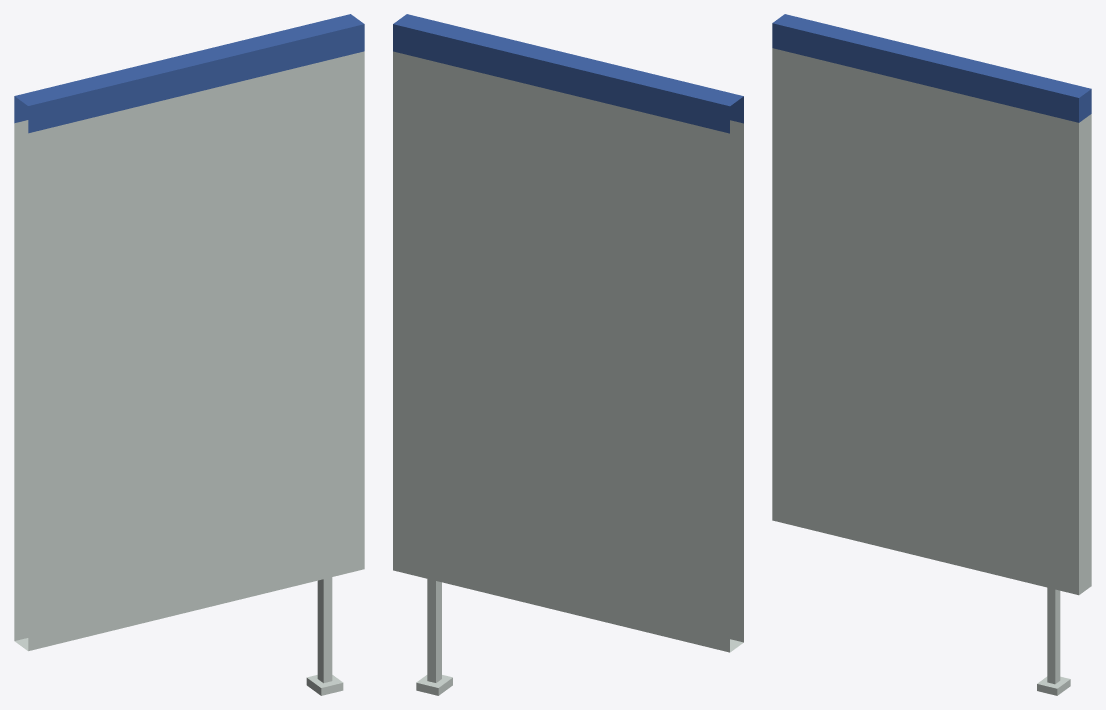
The model's file is SM_Wall_Toilet_02.fbx.
3 views of the same model, side by side, from view 1: azimuth 30°, elevation 25°; view 2: azimuth 150°, elevation 25°; view 3: azimuth 330°, elevation 25° (orthographic). The views are drawn at different scales.
Parts seen in each view (by area): view 1: SM_Wall_Toilet_02; view 2: SM_Wall_Toilet_02; view 3: SM_Wall_Toilet_02.
Part boxes in pixels (x1,y1,x2,y2): SM_Wall_Toilet_02: [14, 14, 364, 695]; SM_Wall_Toilet_02: [393, 14, 743, 695]; SM_Wall_Toilet_02: [772, 14, 1091, 695].
Size of the model in its own units: 80 by 150 by 6.25.
